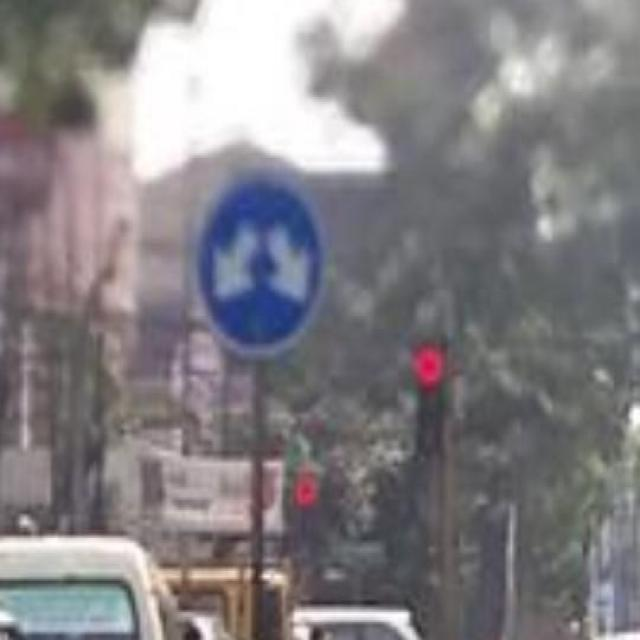traffic sign: (191, 174, 328, 358)
